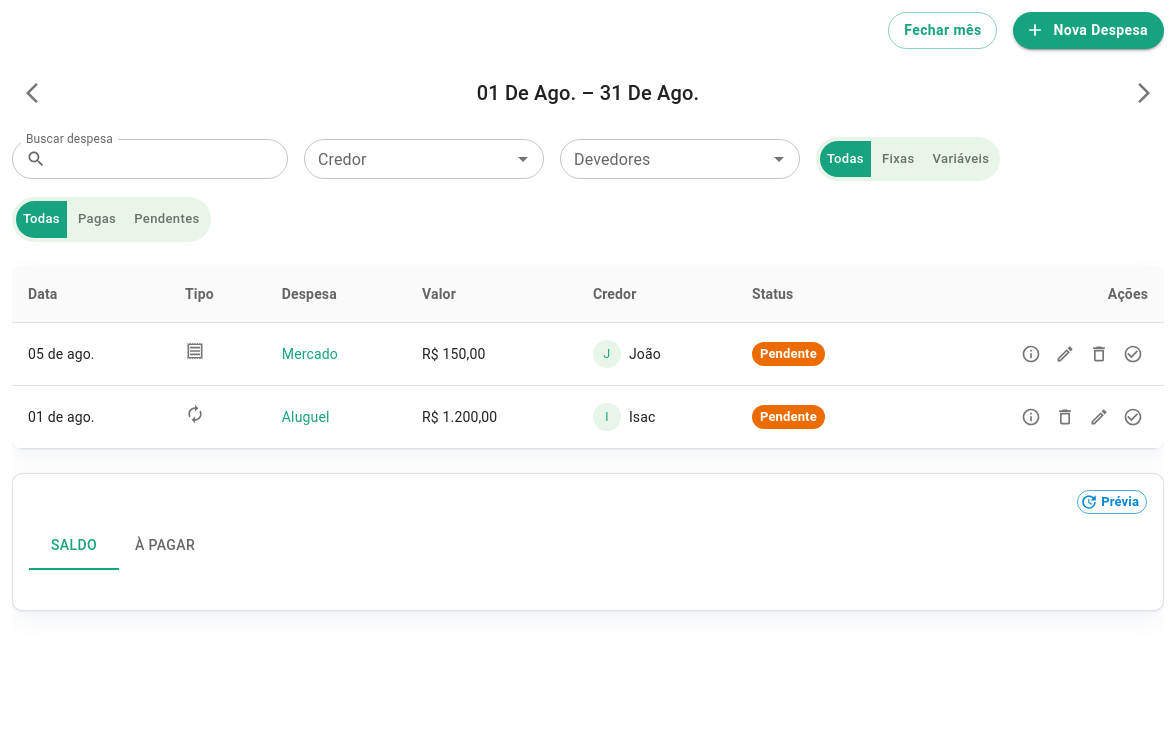
Test case: ExpenseManager - listagem em cards › filters by description on the client side
Expected: the link "Aluguel" is shown, [282,409,330,425]
Type "merc" into the field labelled "Buscar despesa" at (171, 159), box [54,139,288,179]
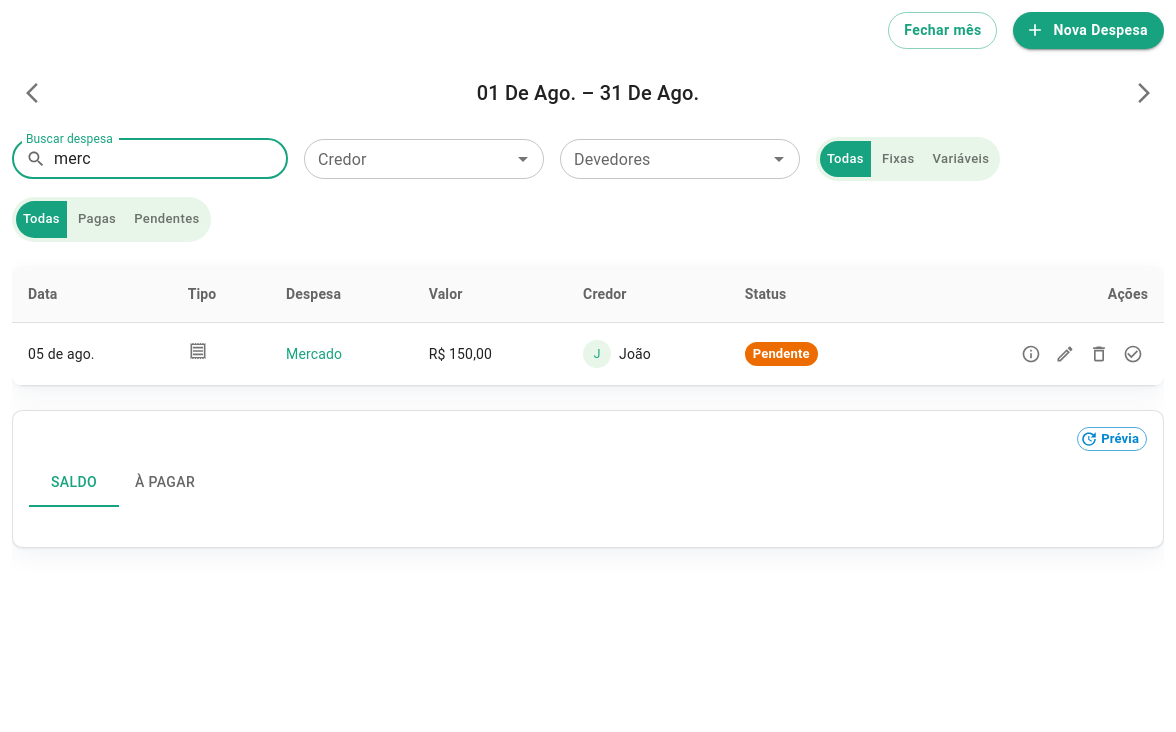
Expected: the link "Mercado" is shown, [286,346,342,362]
Result: the link "Aluguel" is gone
